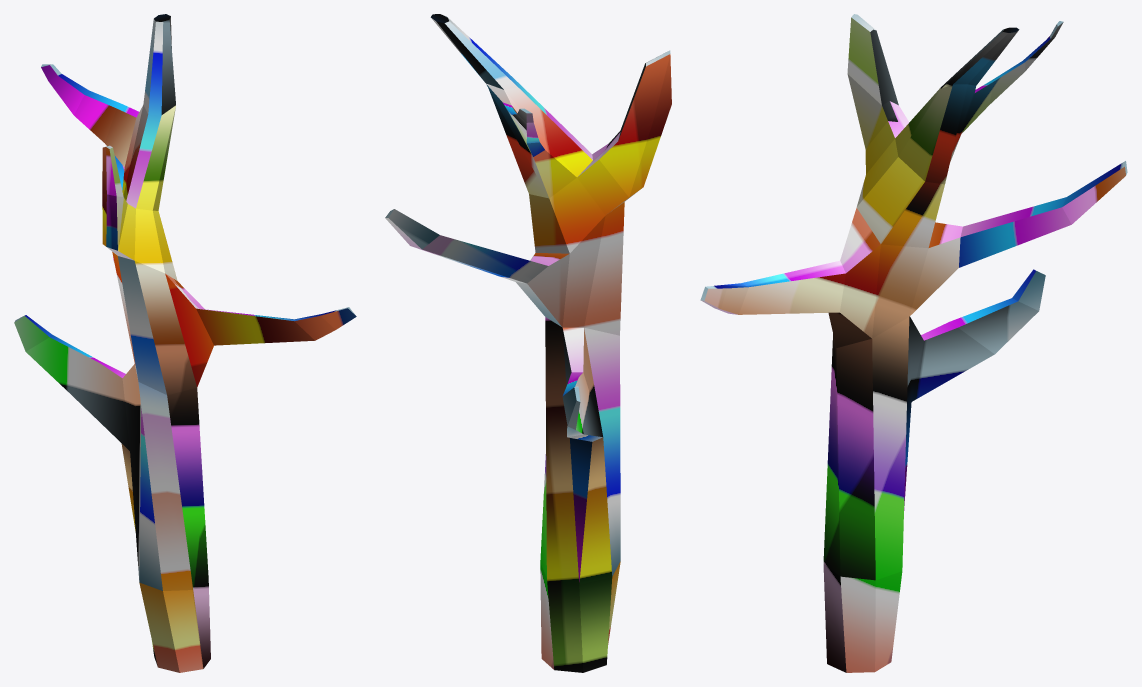
File: arbuste_de_glace3.fbx
3 renders of one model, left to right at view 1: azimuth 30°, elevation 25°; view 2: azimuth 150°, elevation 25°; view 3: azimuth 270°, elevation 25°, orthographic. The views are drawn at different scales.
Parts seen in each view (by area): view 1: Cylinder.025; view 2: Cylinder.025; view 3: Cylinder.025.
Boxes of the visible parts, bbox=[...] form: Cylinder.025: bbox=[14, 14, 356, 672]; Cylinder.025: bbox=[385, 14, 671, 672]; Cylinder.025: bbox=[700, 14, 1127, 672].
Bounding box in the file's own units: 1.13 × 3.3 × 1.94.
Materials: 1 (1 with a texture image).
